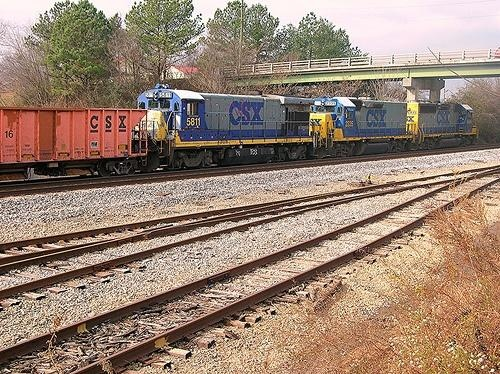train: (1, 84, 479, 182)
